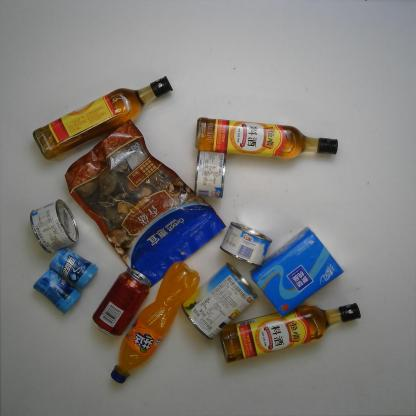Canned Food: (178, 259, 260, 344), (26, 198, 82, 256), (217, 219, 274, 269), (192, 148, 228, 202)
Dried Food: (61, 117, 228, 289)
Drink: (108, 257, 203, 387), (90, 265, 152, 340)
Gum: (31, 266, 83, 317), (48, 244, 100, 290)
Seasoner: (30, 74, 174, 162), (216, 300, 363, 366), (192, 113, 340, 162)
Tissue: (245, 224, 350, 320)
